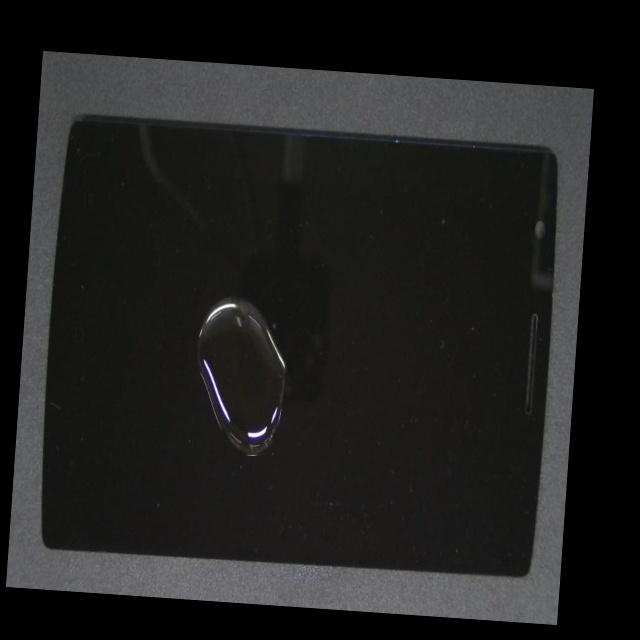oil: (120, 297, 410, 613)
